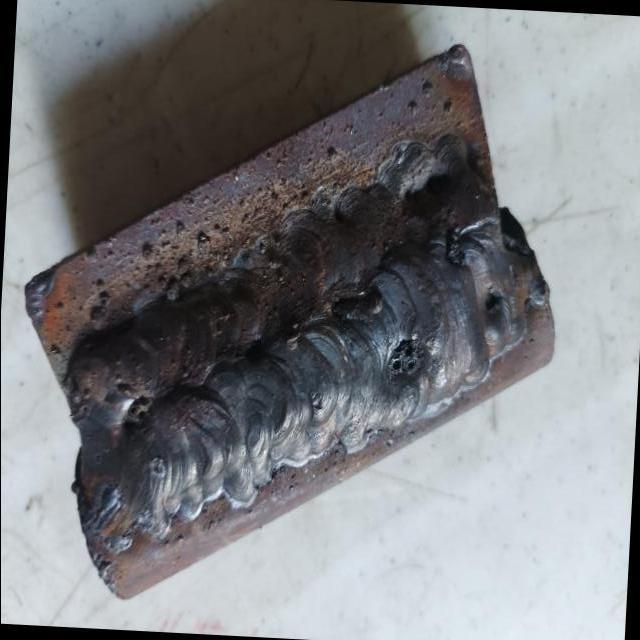defect: (119, 386, 157, 441), (386, 335, 424, 386), (444, 217, 469, 270), (481, 281, 503, 316), (242, 338, 265, 368), (150, 457, 167, 481)
